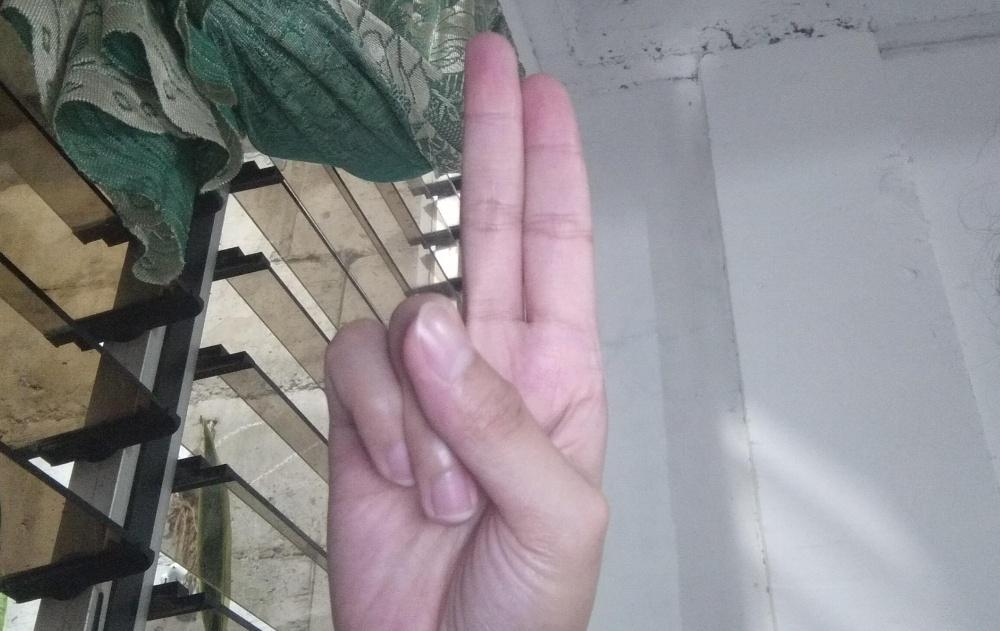u: (322, 30, 611, 631)
